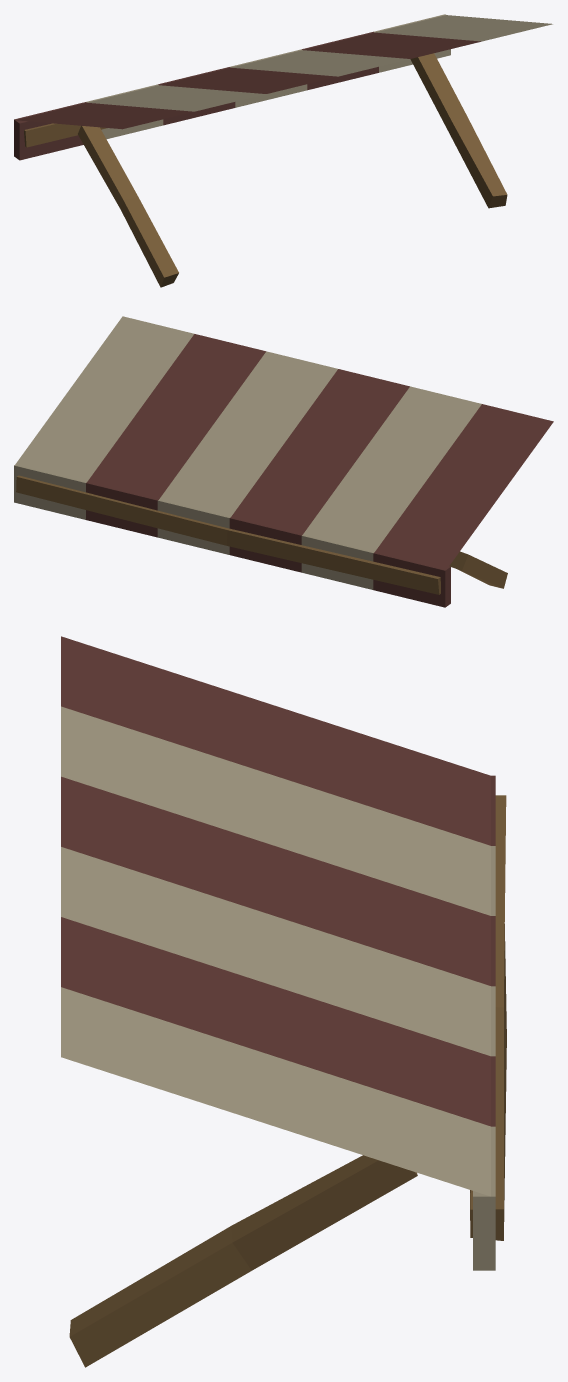
Rendered from town_Entry_wine.glb.
3 views of the same model, one above another, from view 1: azimuth 30°, elevation 25°; view 2: azimuth 150°, elevation 25°; view 3: azimuth 270°, elevation 25° (orthographic). The views are drawn at different scales.
Parts seen in each view (by area): view 1: Repaired entry wine; view 2: Repaired entry wine; view 3: Repaired entry wine.
Boxes of the visible parts, x1,y1,x2,y2 form: Repaired entry wine: (14, 14, 552, 287); Repaired entry wine: (14, 316, 553, 607); Repaired entry wine: (61, 636, 506, 1367).
Size of the model in its own units: 2.2 by 0.8573 by 0.985.
